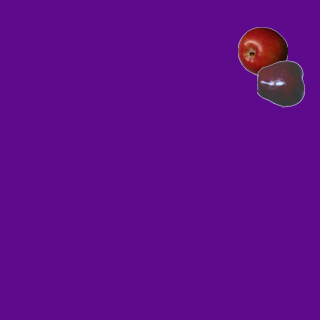Apple Braeburn: (237, 26, 287, 76)
Apple Red Delicious: (256, 58, 306, 108)
